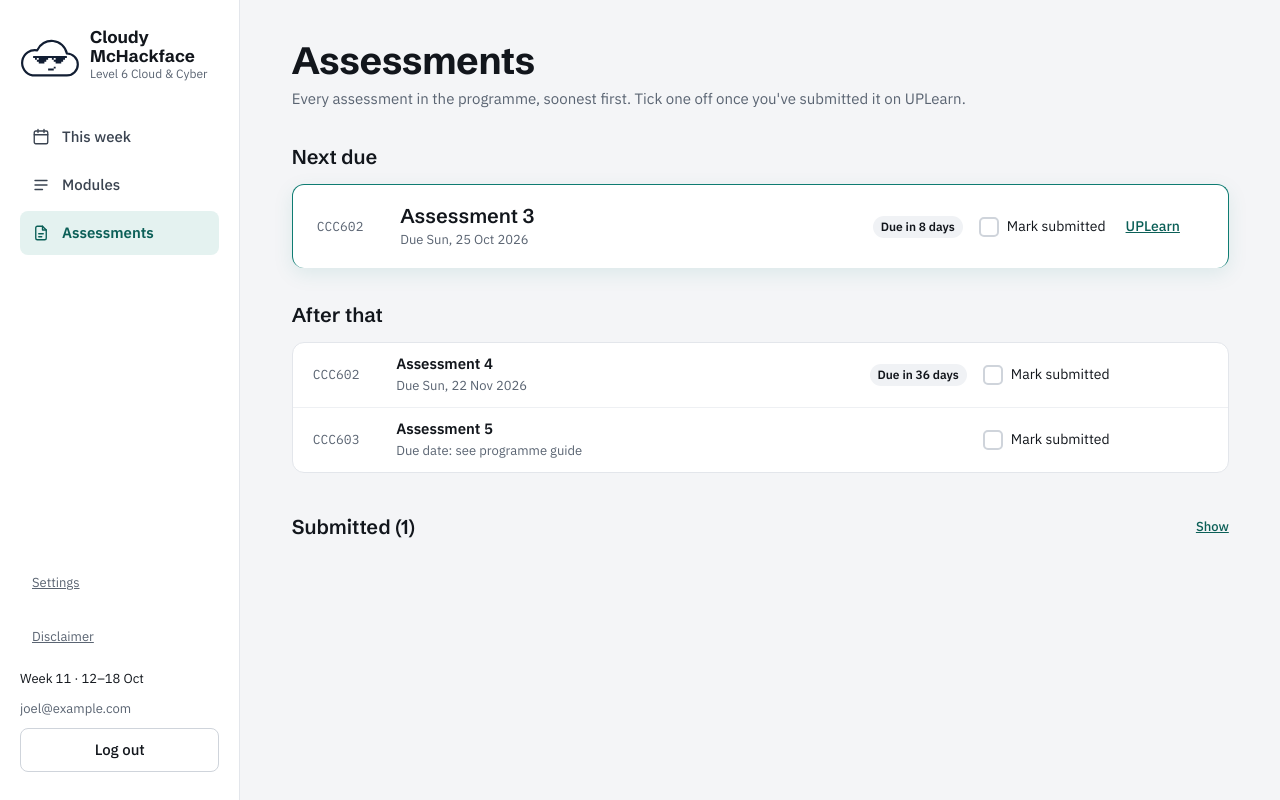
AssessmentsPage › ticks submitted straight away and saves it
expect the element "Next due" is shown: met, box [292,142,1229,268]
Click the checkbox labelled "Mark submitted" in the row of "Assessment 3" at point(989, 226), box [979,216,999,236]
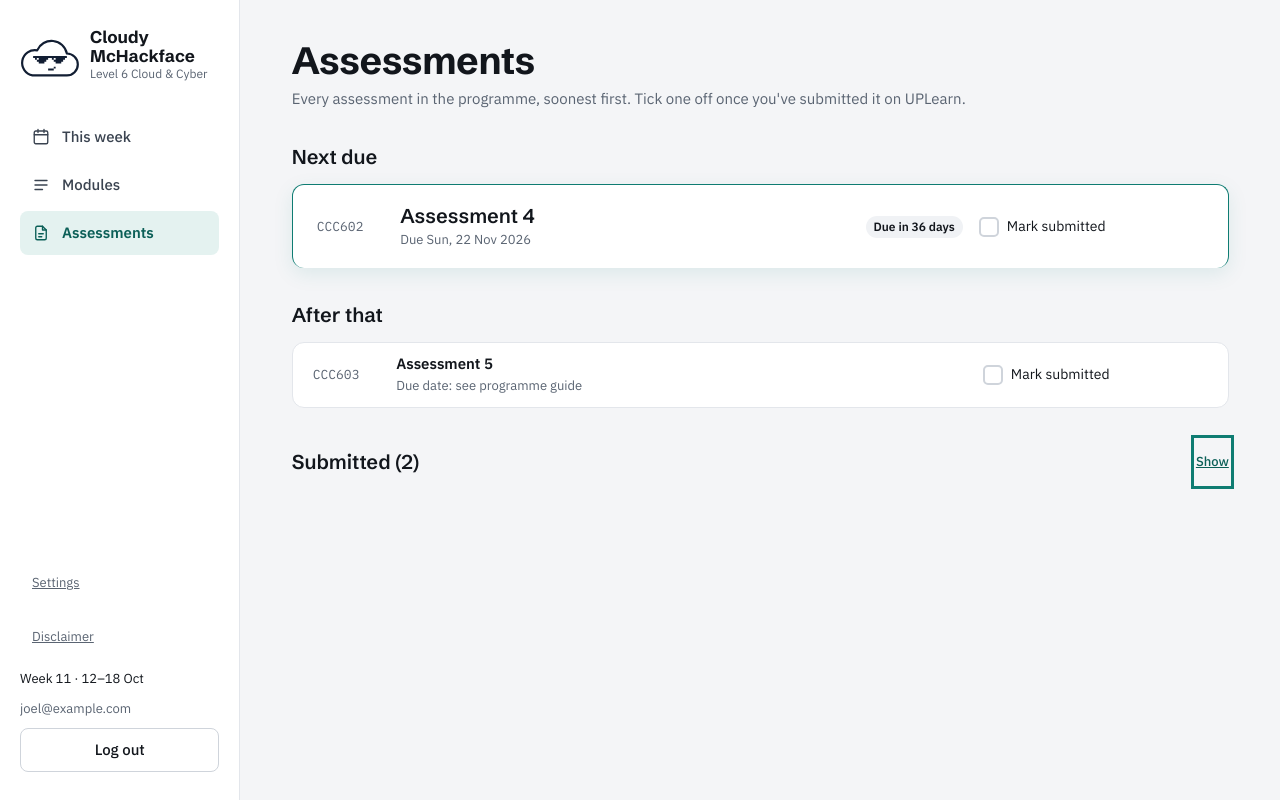
expect the heading "Assessment 4" is shown: met, box [400,203,535,228]
expect the element "Submitted (2)" is shown: met, box [292,440,1229,484]
